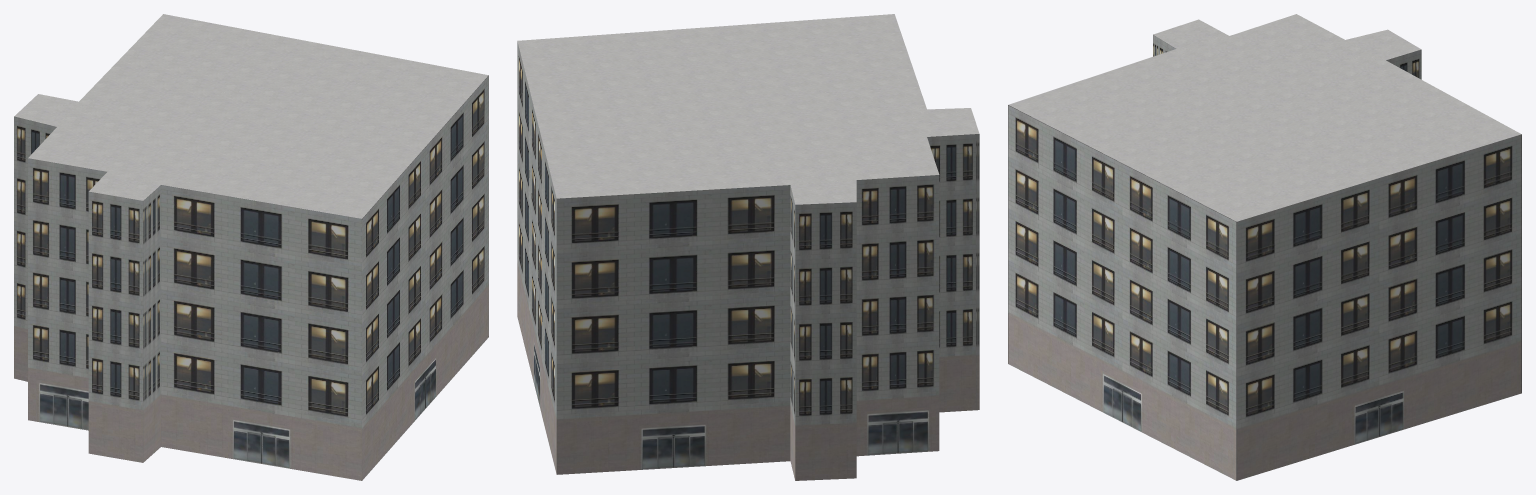
3 renders of one model, left to right at view 1: azimuth 30°, elevation 25°; view 2: azimuth 150°, elevation 25°; view 3: azimuth 270°, elevation 25°, orthographic. The views are drawn at different scales.
Parts seen in each view (by area): view 1: BuildingMaster_1976193500754463407500000000_0, BuildingMaster_1976193500754463407500000000_1; view 2: BuildingMaster_1976193500754463407500000000_0, BuildingMaster_1976193500754463407500000000_1; view 3: BuildingMaster_1976193500754463407500000000_0, BuildingMaster_1976193500754463407500000000_1.
Part boxes in pixels (x1,y1,x2,y2): BuildingMaster_1976193500754463407500000000_0: (14,75,488,480); BuildingMaster_1976193500754463407500000000_1: (14,14,488,218); BuildingMaster_1976193500754463407500000000_0: (517,41,979,480); BuildingMaster_1976193500754463407500000000_1: (517,14,979,204); BuildingMaster_1976193500754463407500000000_0: (1008,35,1521,480); BuildingMaster_1976193500754463407500000000_1: (1008,14,1521,221).
Size of the model in its own units: 30.1 by 17.5 by 31.44.
Materials: 2 (2 with a texture image).
